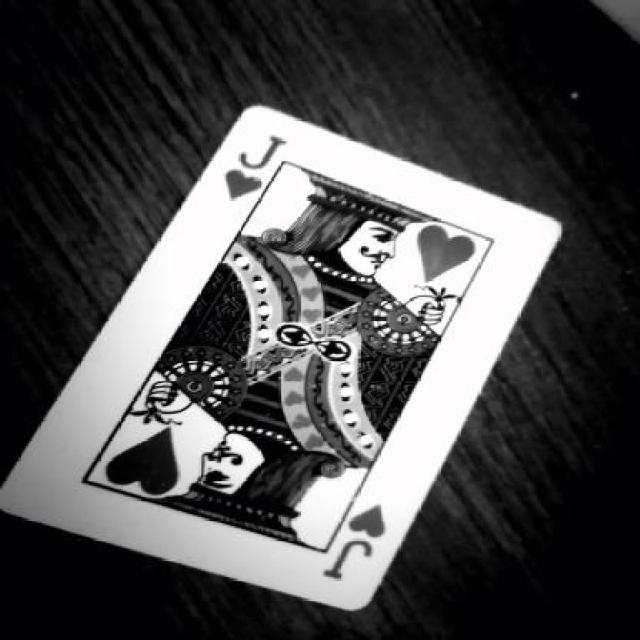JH: (207, 111, 298, 218), (310, 474, 387, 589)
